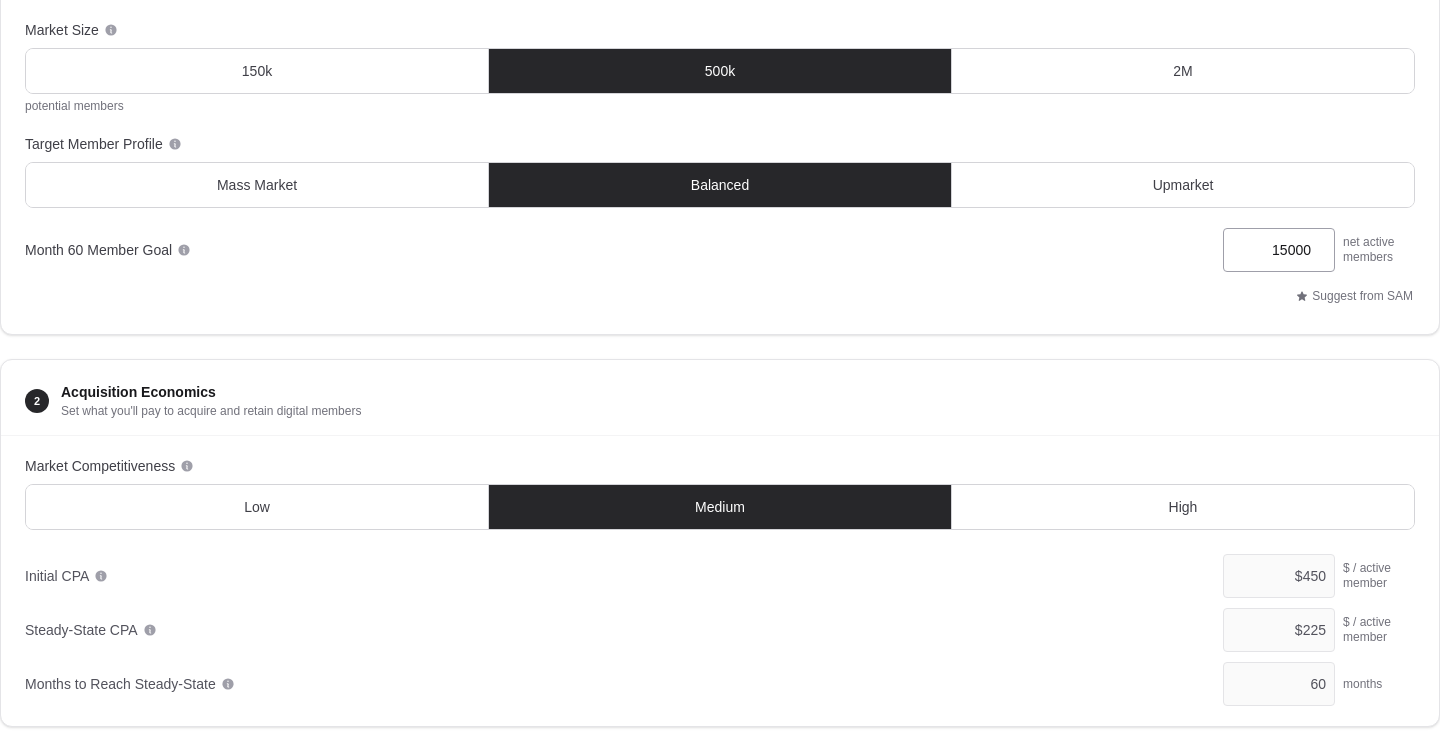
it: ModelInputs › lever tooltips › Market Competitiveness tooltip clarifies that CPA does not affect member counts
Hover over the button named "more information" next to "Market Competitiveness" at (187, 466), box x1=179 y1=458 x2=195 y2=474
(page scrolled)
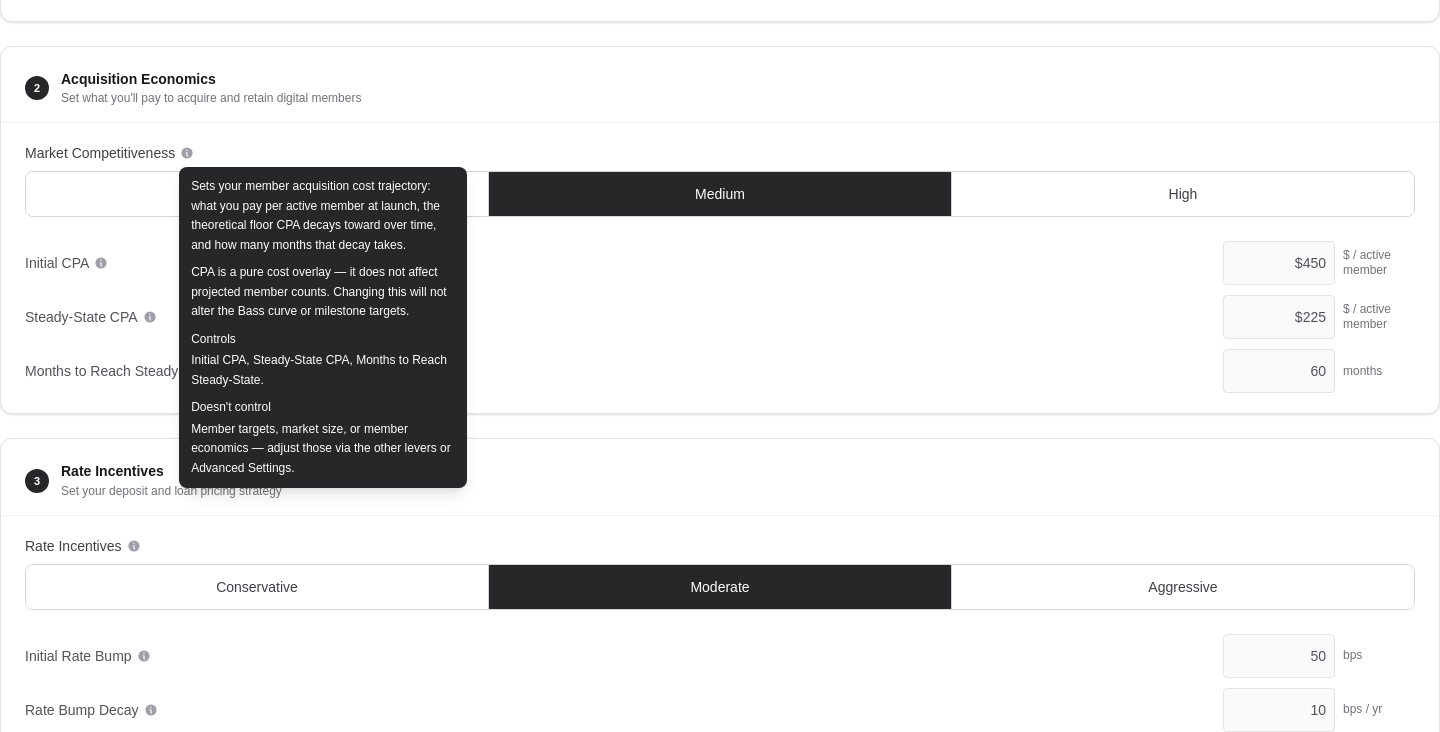
Now the tooltip shows "does not affect projected member", box x1=191 y1=265 x2=447 y2=318
